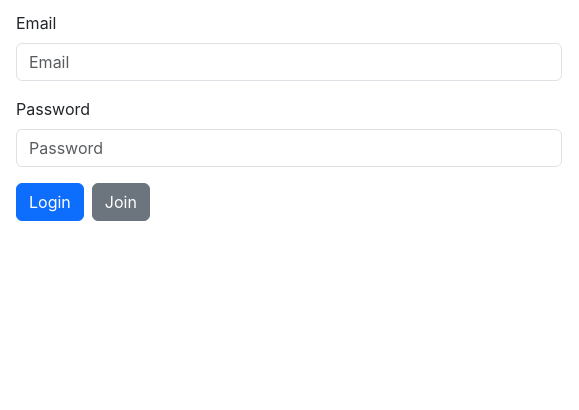
Test: <LoginJoin /> › switches between Login and Join forms
Click the button "Join" at (121, 202), box [92,183,150,221]
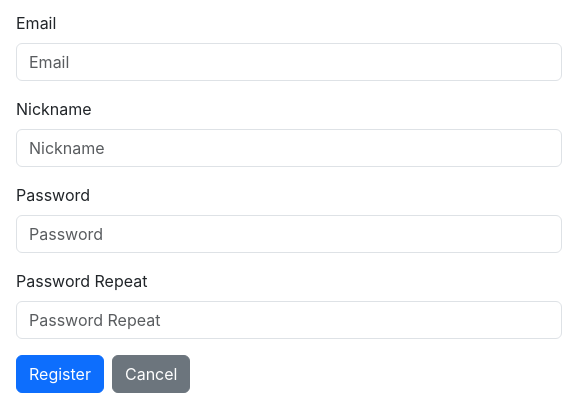
Expected: the field labelled "Nickname" is shown, [16,129,562,167]
Expected: the password field labelled "Password Repeat" is shown, [16,301,562,339]
